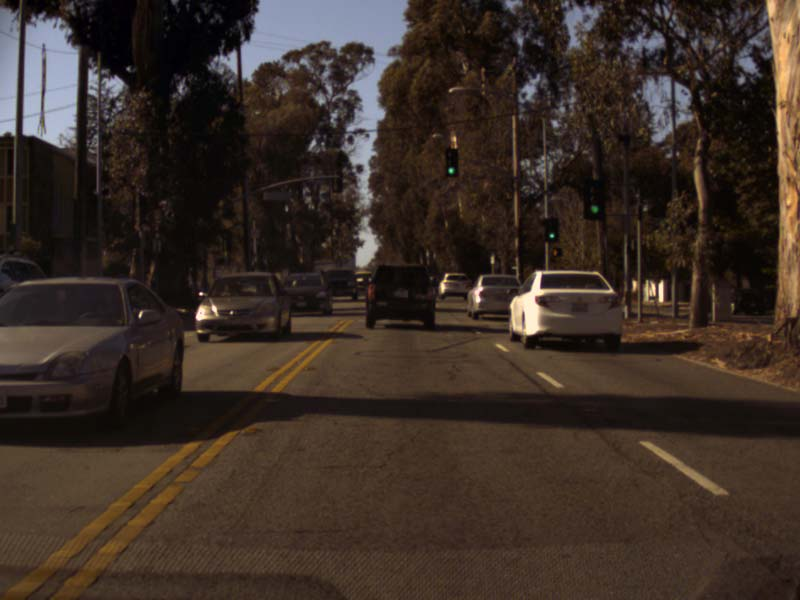Green: (583, 178, 603, 220), (445, 148, 457, 176), (544, 218, 557, 241)
